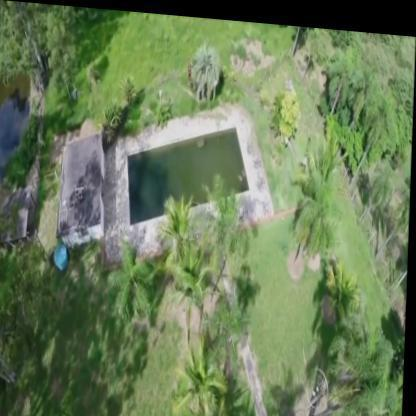agua: (137, 120, 234, 221)
